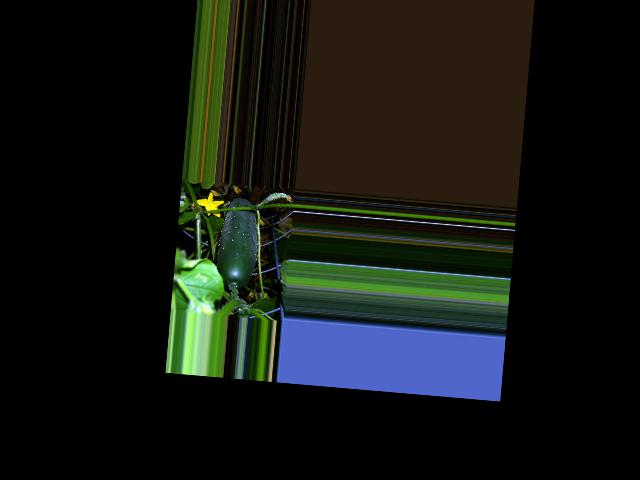cucumber: (215, 197, 262, 291)
